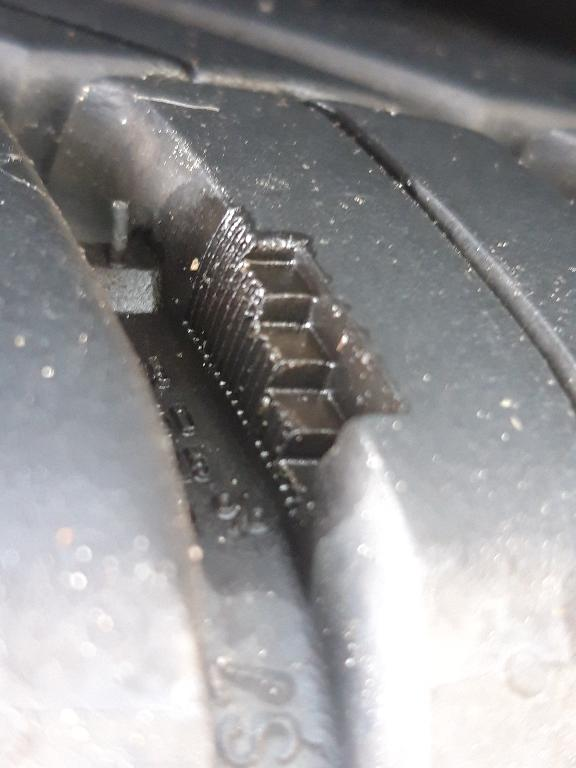temoin:90: (163, 199, 424, 539)
